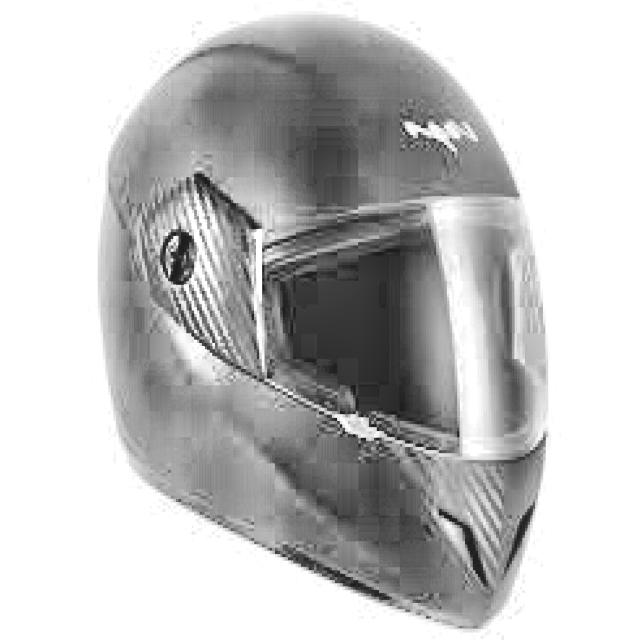Helmet: (106, 2, 567, 633)
